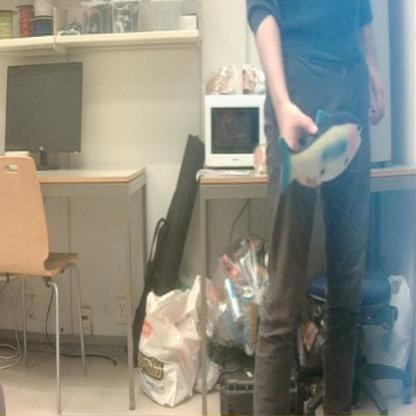rubberfish: (275, 106, 368, 194)
